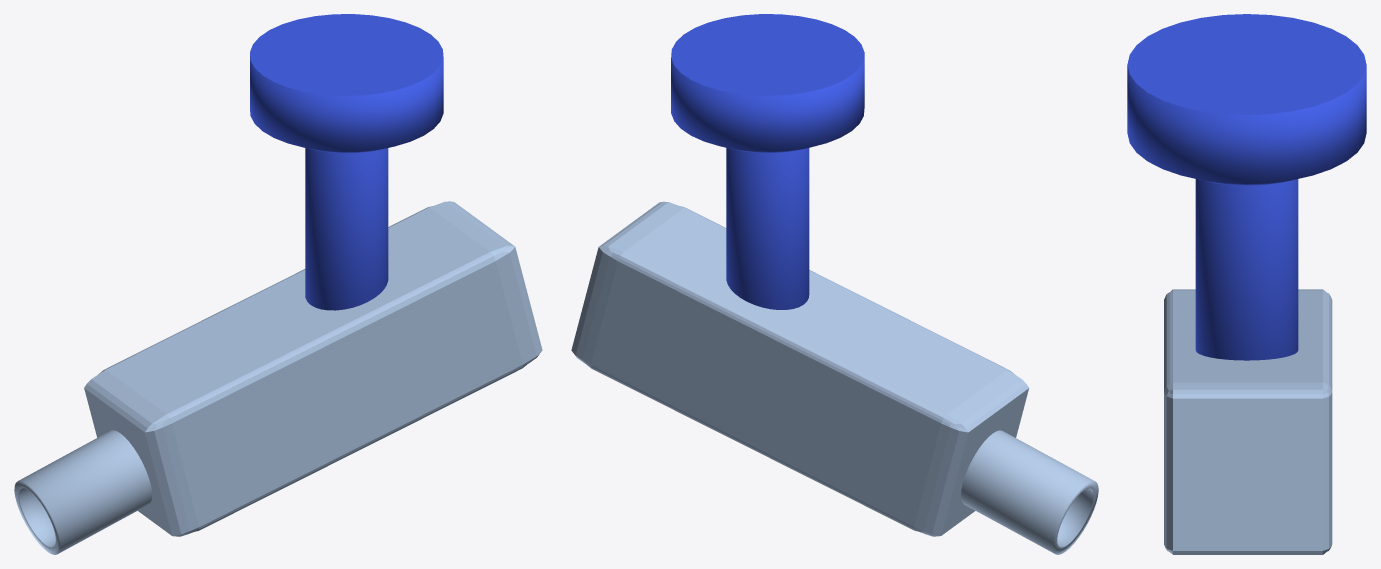
Rendered from security_camera.fbx.
3 views of the same model, side by side, from view 1: azimuth 30°, elevation 25°; view 2: azimuth 150°, elevation 25°; view 3: azimuth 270°, elevation 25° (orthographic). The views are drawn at different scales.
Visible parts, largest first — view 1: Cube, Cylinder, Cylinder.001, Cylinder.002; view 2: Cube, Cylinder, Cylinder.001, Cylinder.002; view 3: Cube, Cylinder, Cylinder.001.
Part boxes in pixels (bbox=[...]): Cube: bbox=[84, 201, 542, 536]; Cylinder: bbox=[250, 14, 443, 153]; Cylinder.001: bbox=[305, 148, 388, 310]; Cylinder.002: bbox=[14, 430, 152, 554]; Cube: bbox=[571, 201, 1028, 536]; Cylinder: bbox=[671, 14, 864, 152]; Cylinder.001: bbox=[726, 148, 809, 309]; Cylinder.002: bbox=[961, 430, 1098, 554]; Cube: bbox=[1164, 289, 1332, 554]; Cylinder: bbox=[1127, 14, 1366, 185]; Cylinder.001: bbox=[1195, 179, 1298, 360].
Size of the model in its own units: 260 by 217 by 90.1.
